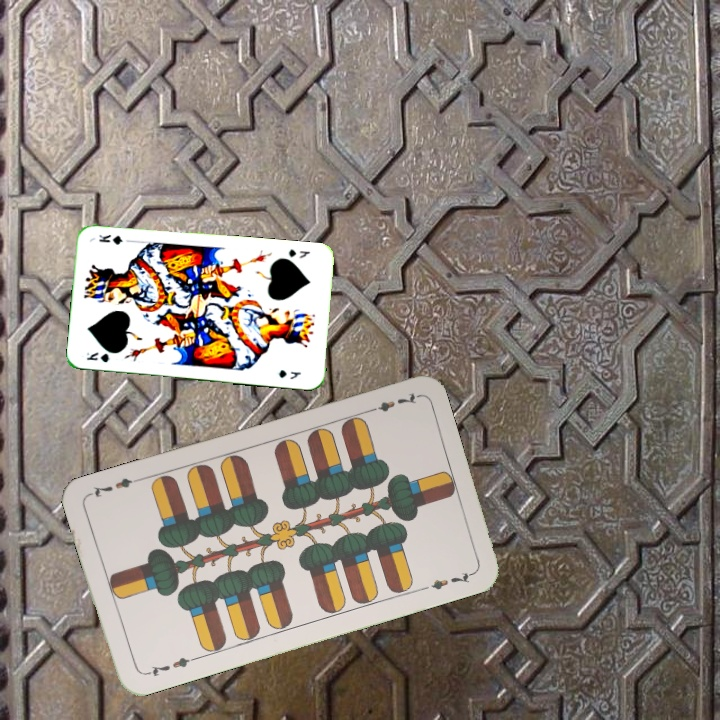E7: (363, 388, 421, 416), (139, 653, 198, 679)
GK: (83, 348, 112, 365), (285, 245, 312, 261)
